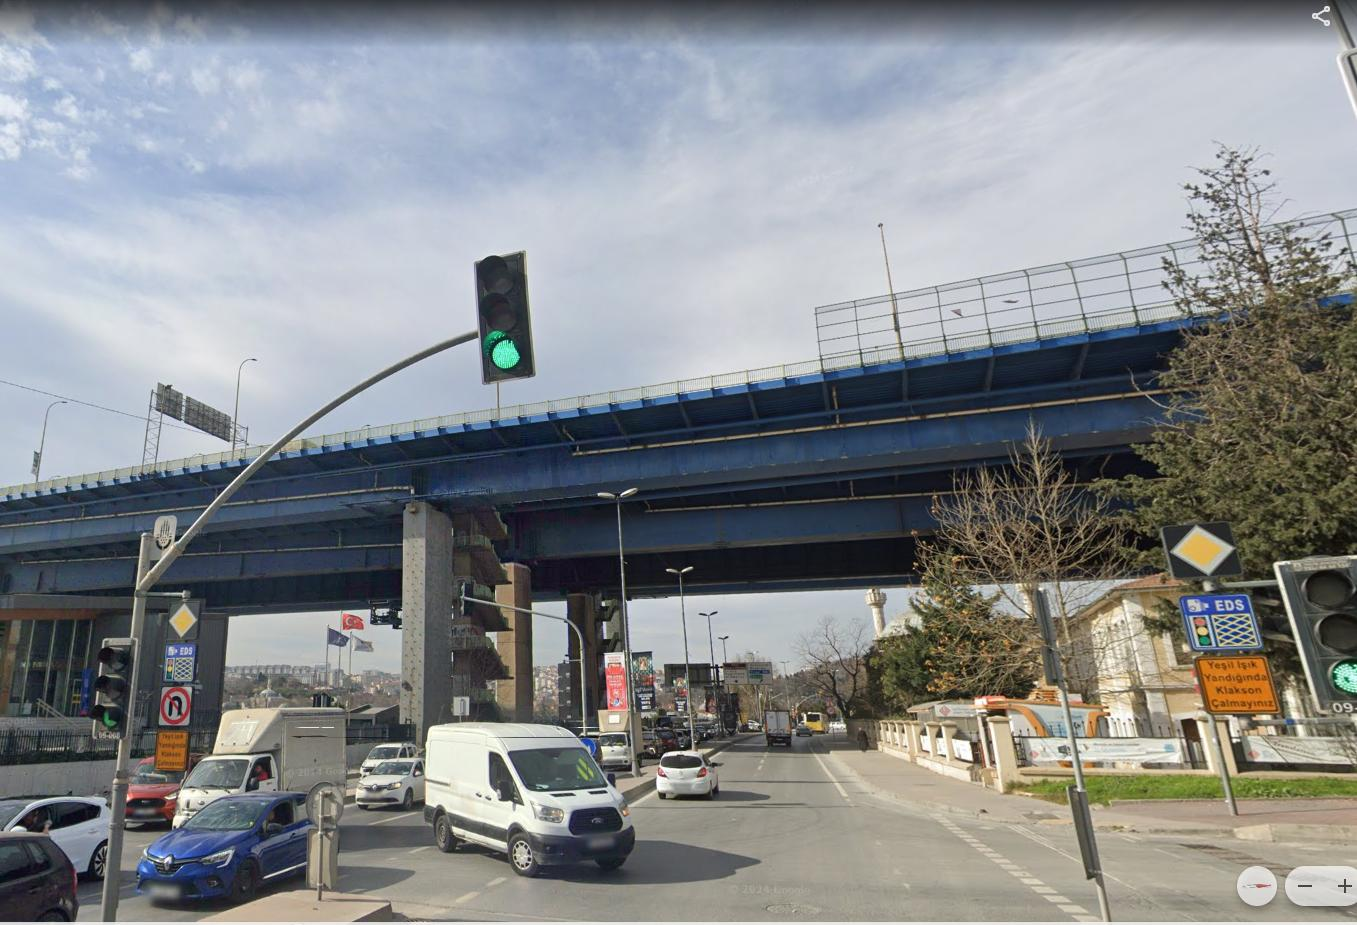greenlight: (465, 249, 548, 386)
